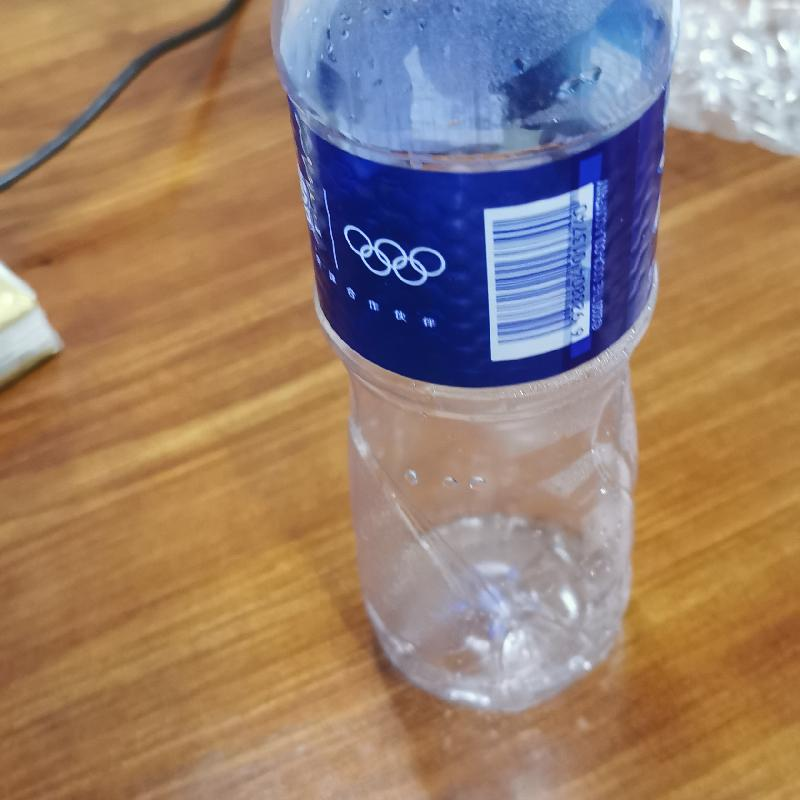bottles: (263, 1, 675, 713)
